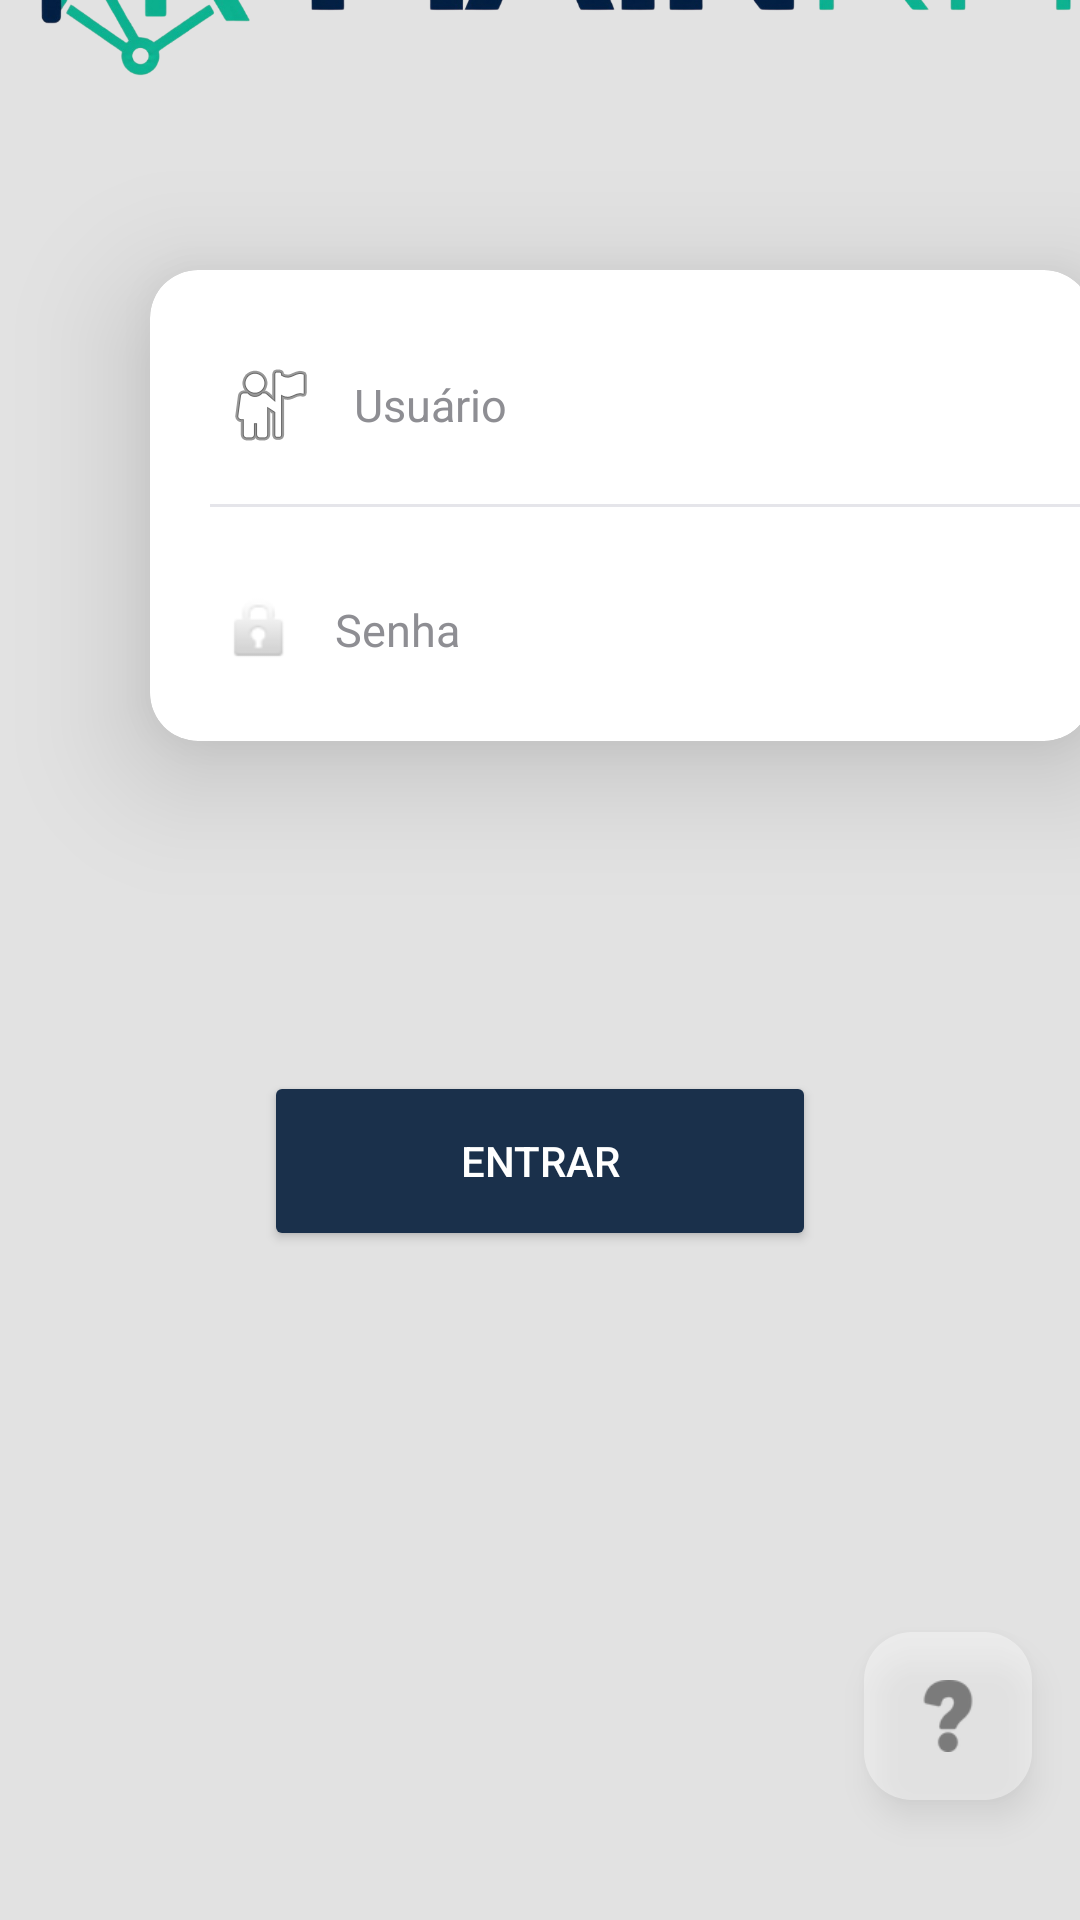

Icon click points for this 1080px×1920px phone screenshot, format (x,y):
interrogacao: (948,1716)
